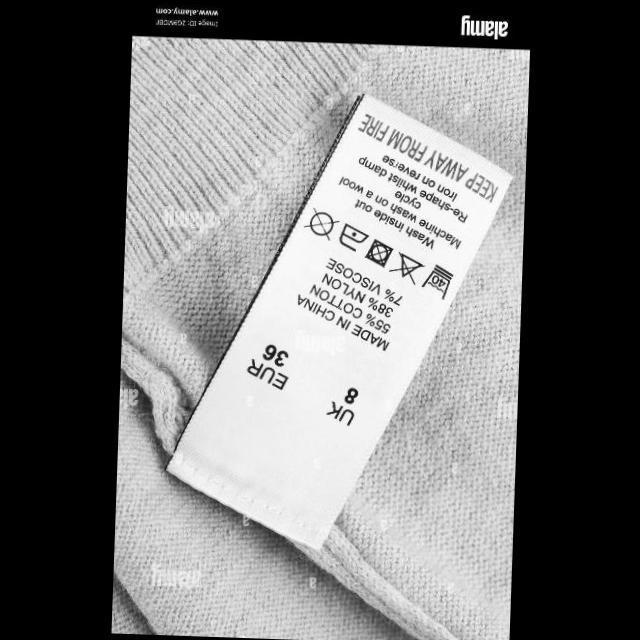40C: (420, 260, 456, 300)
DN_bleach: (386, 248, 426, 286)
DN_dry_clean: (300, 204, 339, 242)
DN_tumble_dry: (361, 236, 394, 268)
iron_low: (333, 220, 369, 254)
